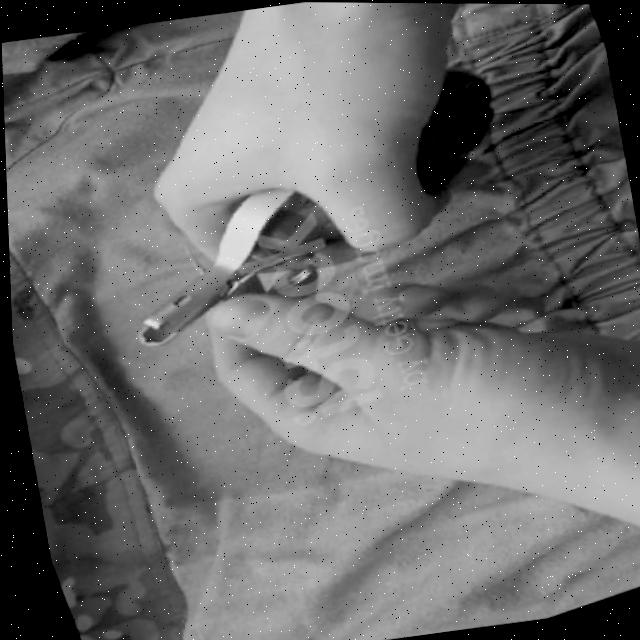grenade: (63, 42, 557, 360)
